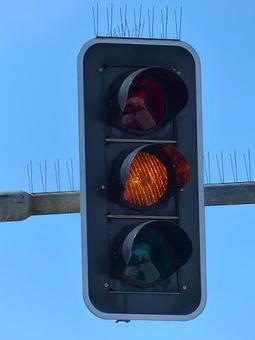trafic: (93, 45, 195, 304)
